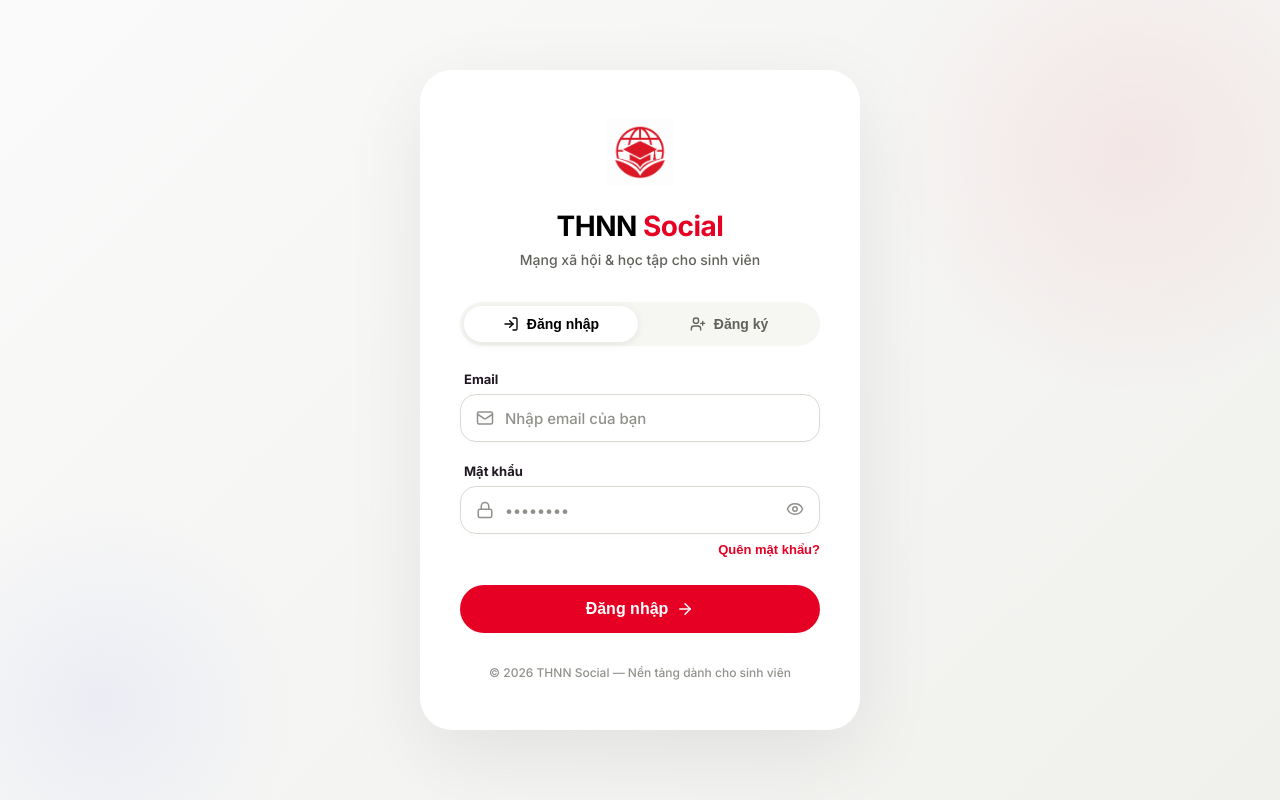
Test: AuthPage — login › submit_disabled_while_loading_shows_processing_label
The width and height of the screenshot is (1280, 800).
In the field with id "login-email": (640,418) [460,394,820,442], type "a@b.c"
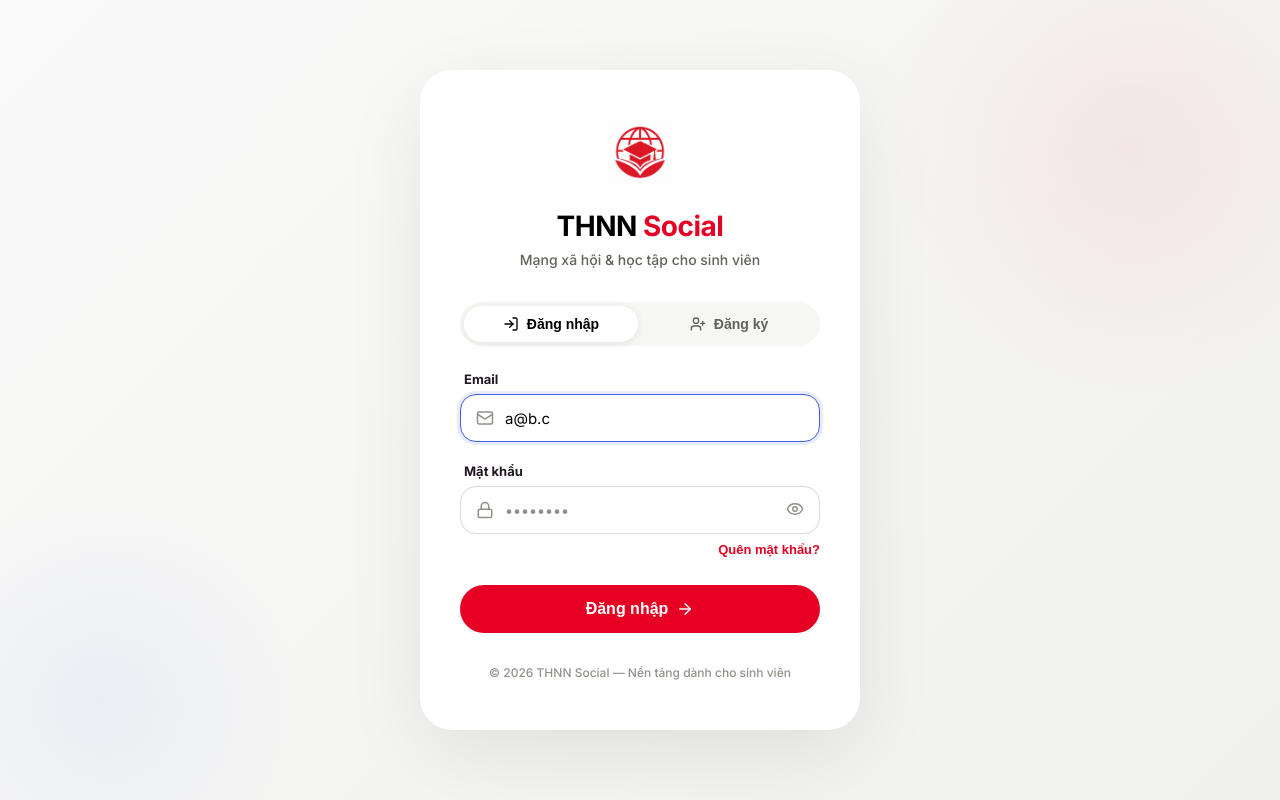
In the password field with id "login-password": (640,510) [460,486,820,534], type "p"
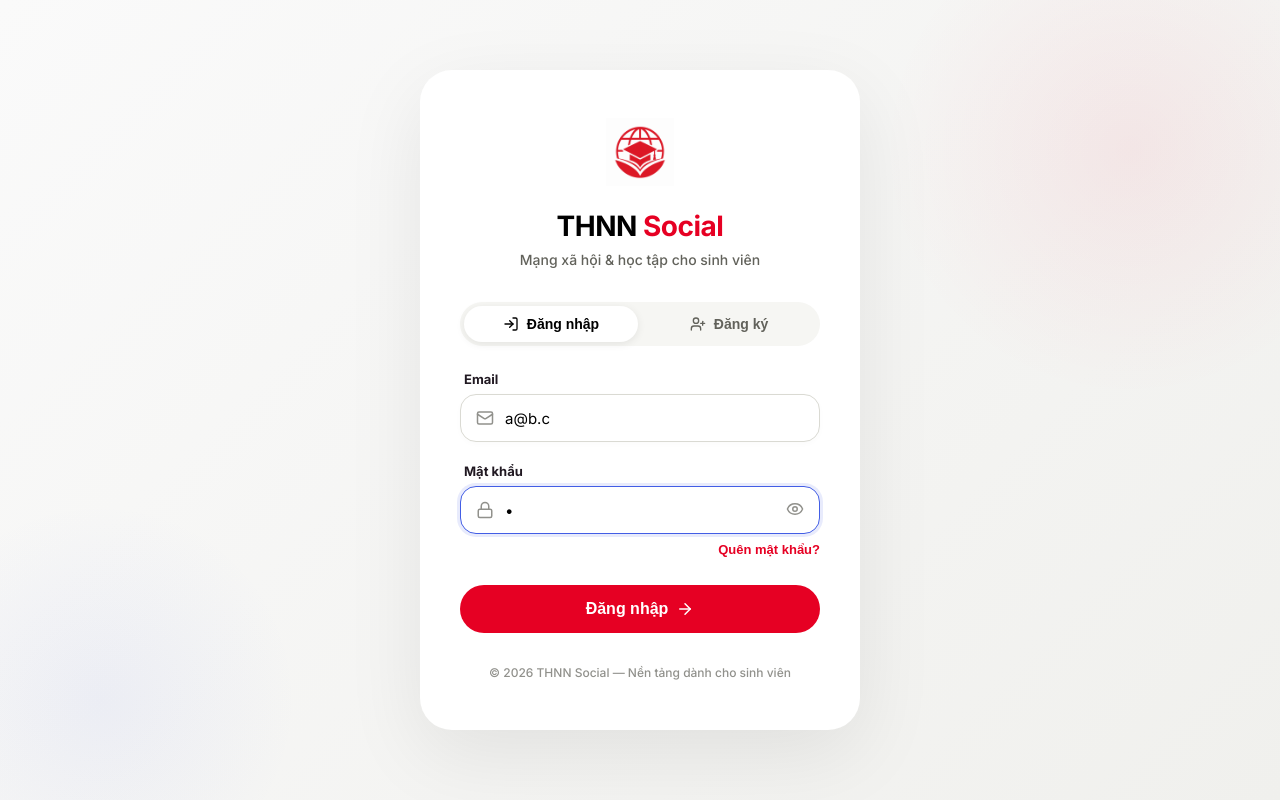
Click the submit button: (640,609) [460,585,820,633]
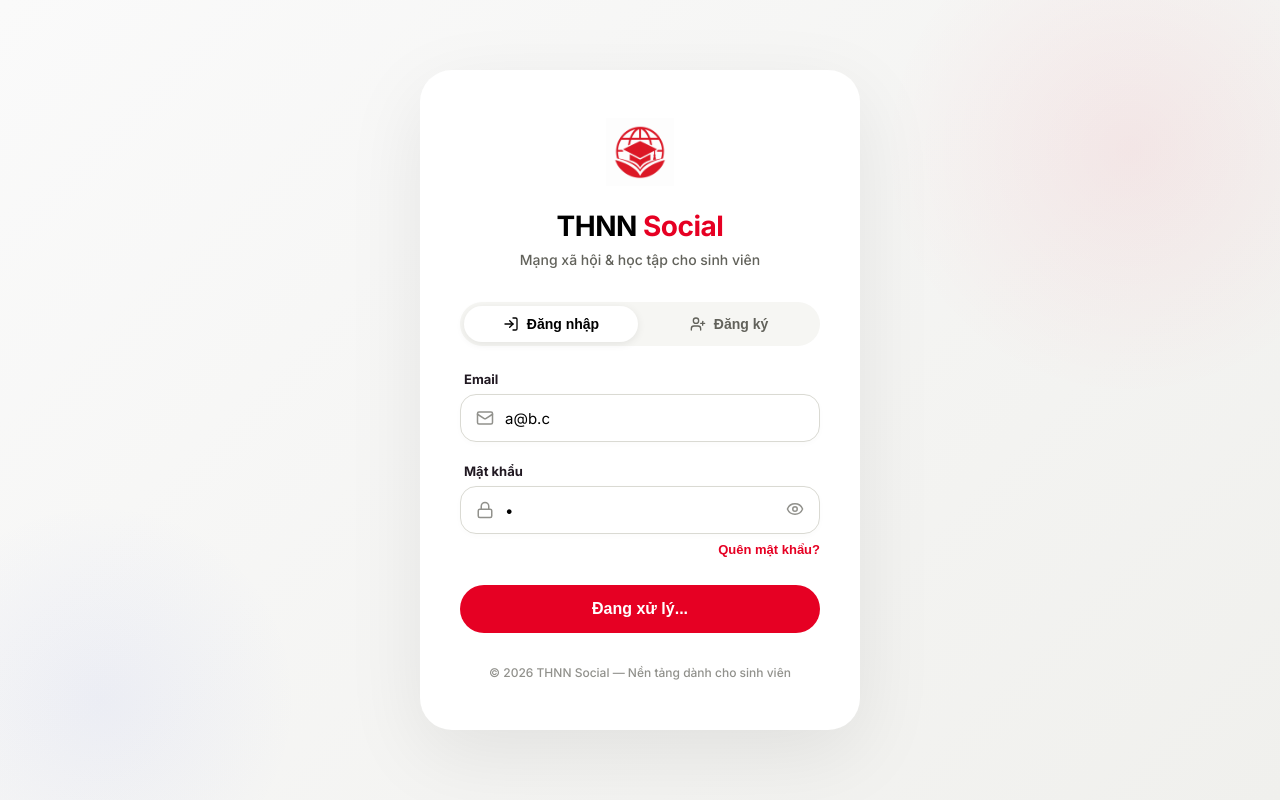
Check: the button "Đăng nhập" is enabled, box [464,306,638,342]
Check: the button "Đang xử lý..." is disabled, box [460,585,820,633]
